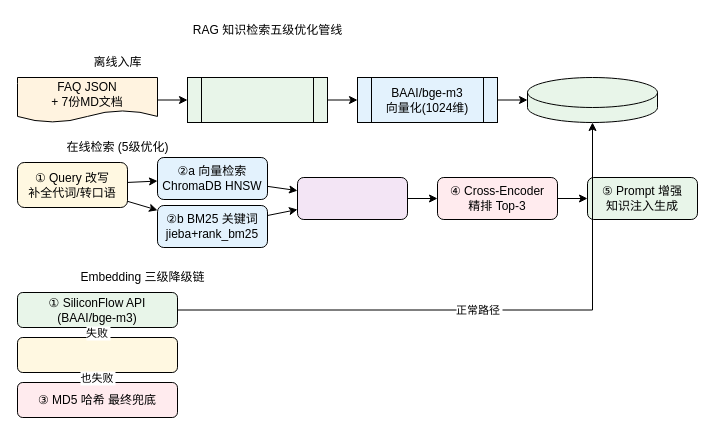
Some shapes in this 715 by 435 pixel diagram are drawn without their labels. The centre of each missing label's shape, as x and y in pixels:
"ChromaDB 向量存储" goes at point 592,99.
"MarkdownProcessor Chunk切割(200重叠)" goes at point 257,99.
"② sentence-transformers 本地兜底" goes at point 97,354.
"③ RRF 融合 两路加权合并" goes at point 352,198.
